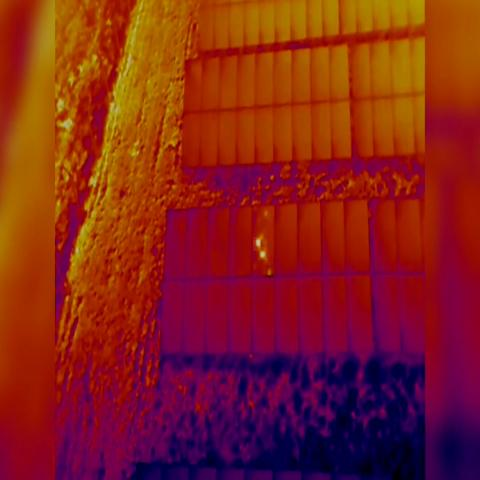fault: (253, 237, 261, 251), (258, 247, 266, 260), (266, 265, 273, 277)
